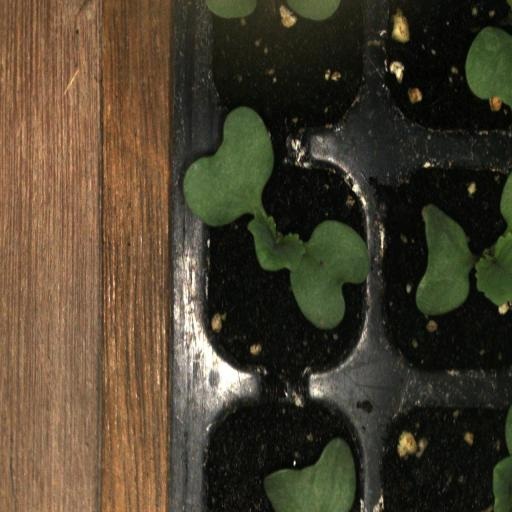seedling: (188, 143, 373, 387), (373, 145, 512, 388)
